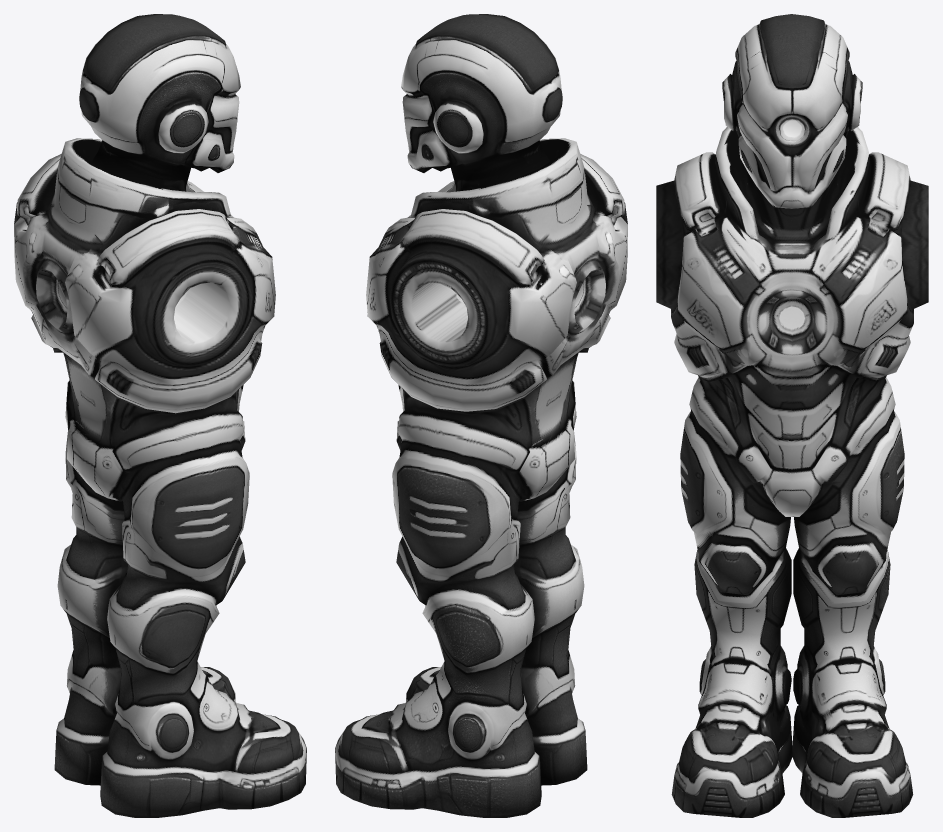
File: fuzeball_irnman.glb
3 views of the same model, side by side, from view 1: azimuth 30°, elevation 25°; view 2: azimuth 150°, elevation 25°; view 3: azimuth 270°, elevation 25° (orthographic).
Visible parts, largest first — view 1: tripo_node_8ed2cc92-5b0e-43b7-ba39-1710119fddfe; view 2: tripo_node_8ed2cc92-5b0e-43b7-ba39-1710119fddfe; view 3: tripo_node_8ed2cc92-5b0e-43b7-ba39-1710119fddfe.
Part boxes in pixels (x1,y1,x2,y2): tripo_node_8ed2cc92-5b0e-43b7-ba39-1710119fddfe: (14, 14, 306, 817); tripo_node_8ed2cc92-5b0e-43b7-ba39-1710119fddfe: (335, 14, 627, 817); tripo_node_8ed2cc92-5b0e-43b7-ba39-1710119fddfe: (656, 14, 928, 817).
Size of the model in its own units: 3.75 by 12.22 by 4.04.
Materials: 2 (2 with a texture image).
